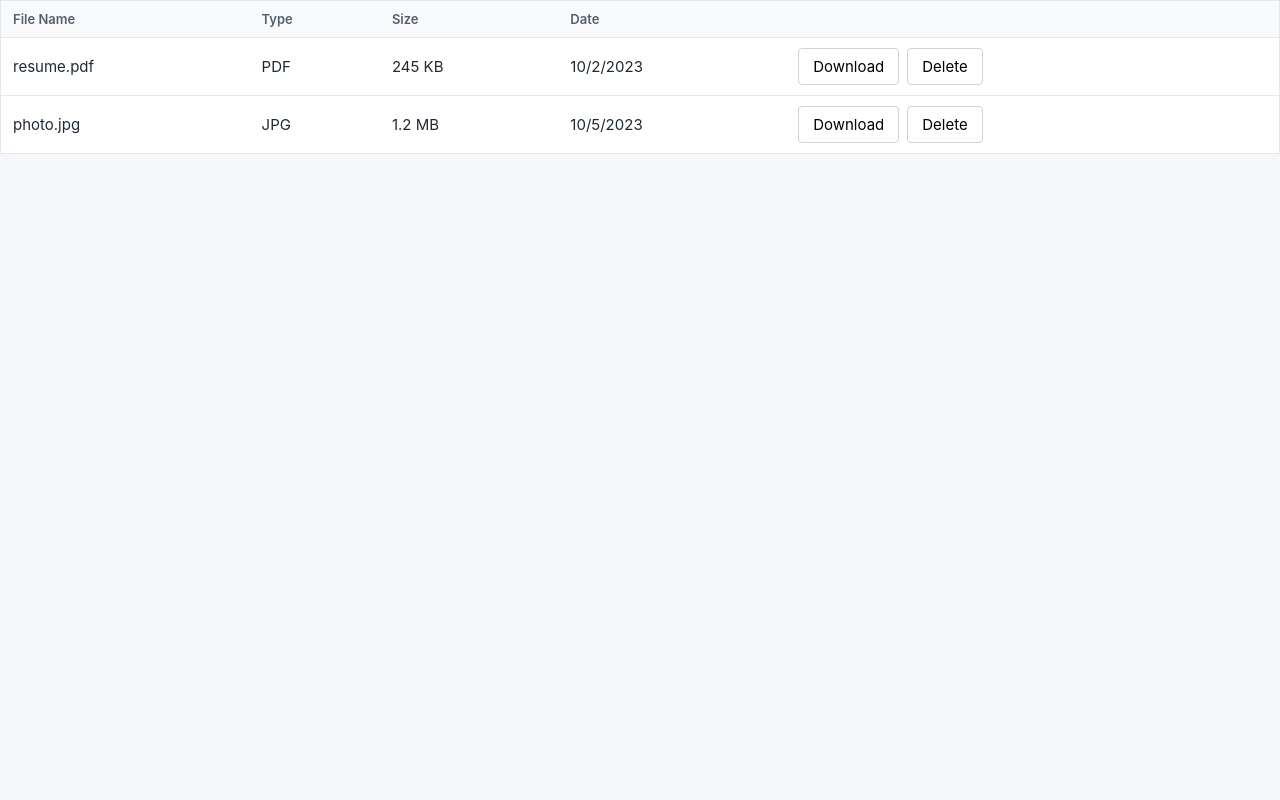
Test case: keeps the dialog open when deleting fails
The width and height of the screenshot is (1280, 800).
Click the button "Delete" in the row of "photo.jpg" at (945, 124), box [907,106,983,143]
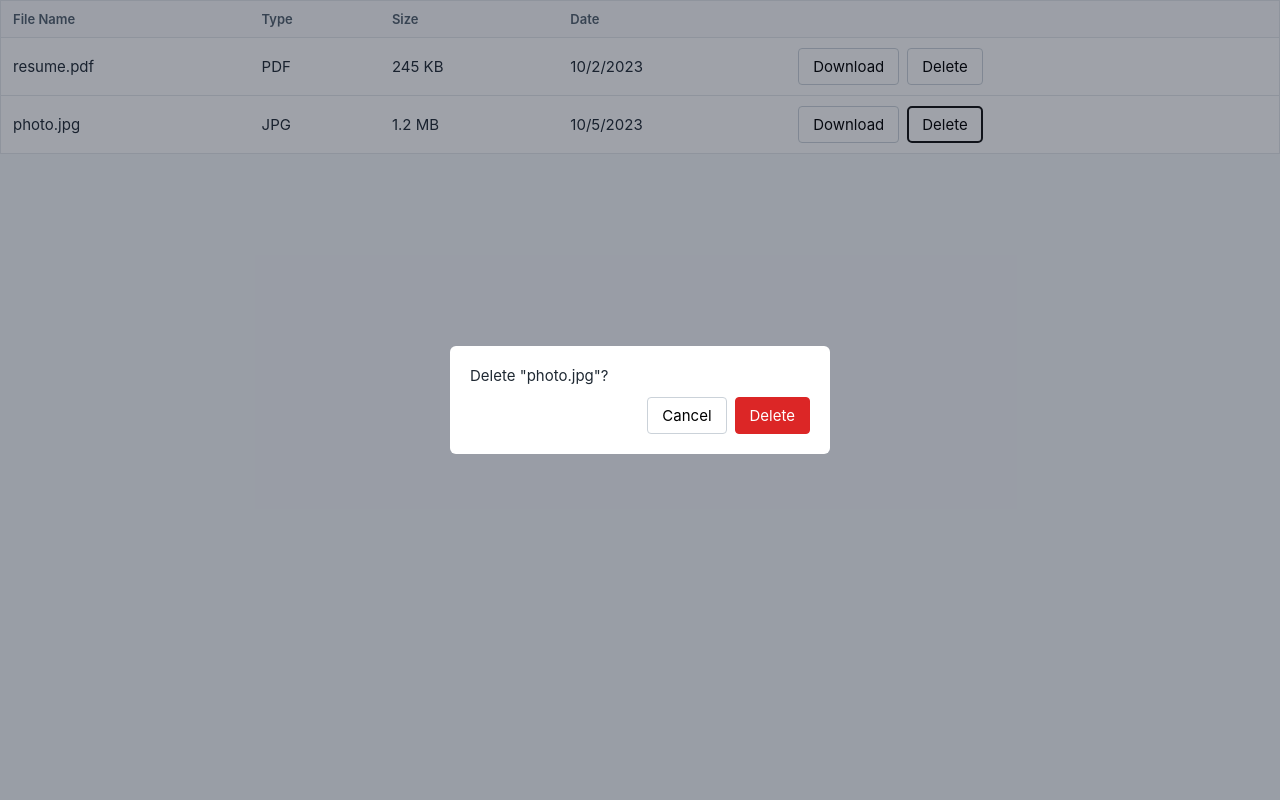
Click the button "Delete" at (772, 416), box [734,397,810,434]
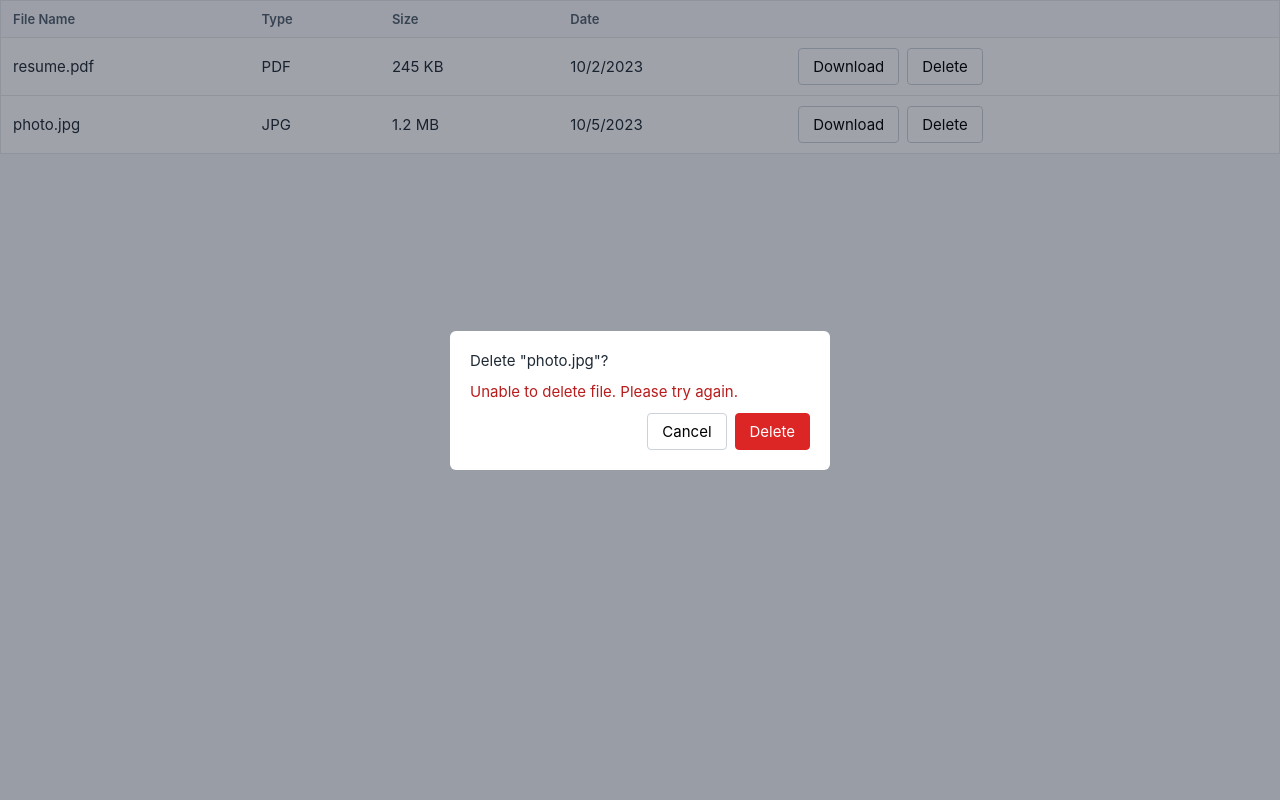
Expected: the dialog is shown, [450,330,830,470]
Expected: the text "Unable to delete file. Please try again." is shown, [470,382,738,400]
